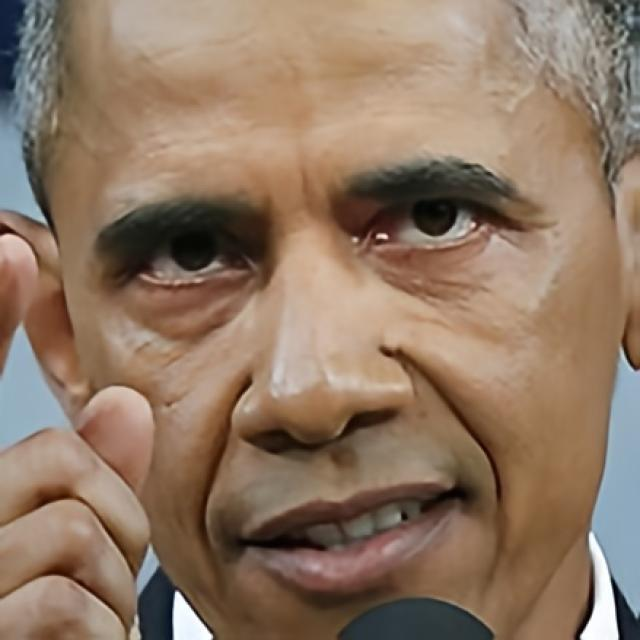anger: (48, 30, 613, 640)
